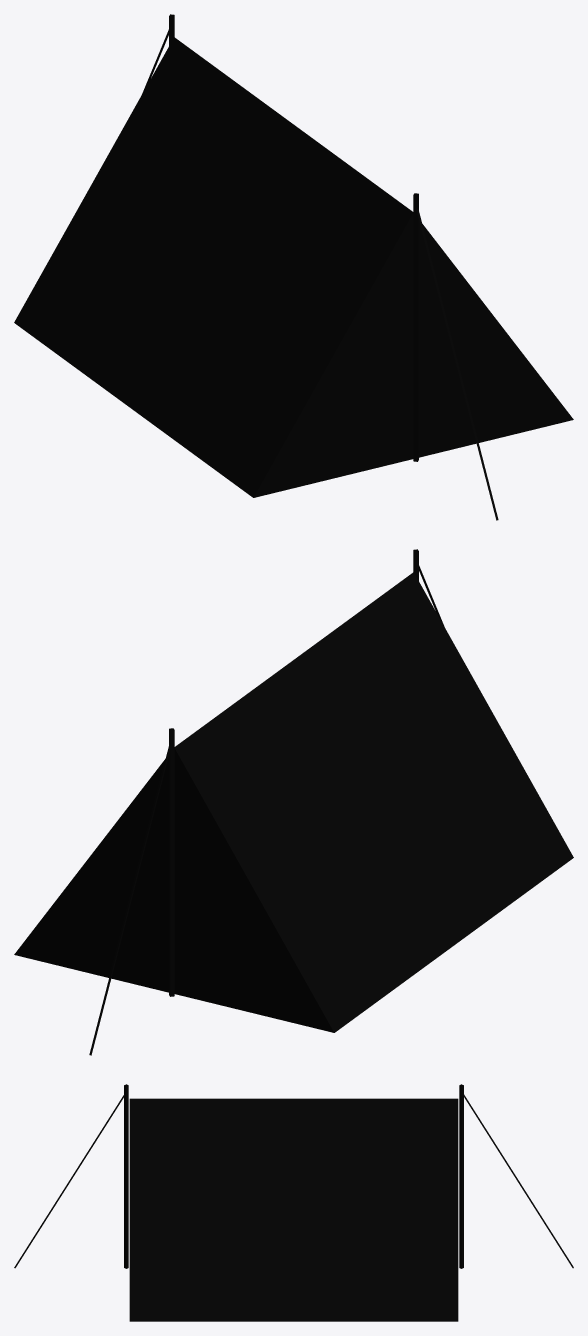
The model's file is SM_tent_green.fbx.
3 renders of one model, top to bottom at view 1: azimuth 30°, elevation 25°; view 2: azimuth 150°, elevation 25°; view 3: azimuth 270°, elevation 25°, orthographic. The views are drawn at different scales.
Parts seen in each view (by area): view 1: tent_green; view 2: tent_green; view 3: tent_green.
Part boxes in pixels (bbox=[...]): tent_green: bbox=[14, 14, 573, 520]; tent_green: bbox=[14, 549, 573, 1055]; tent_green: bbox=[14, 1084, 573, 1321].
Size of the model in its own units: 1.7 by 1.35 by 3.75.
